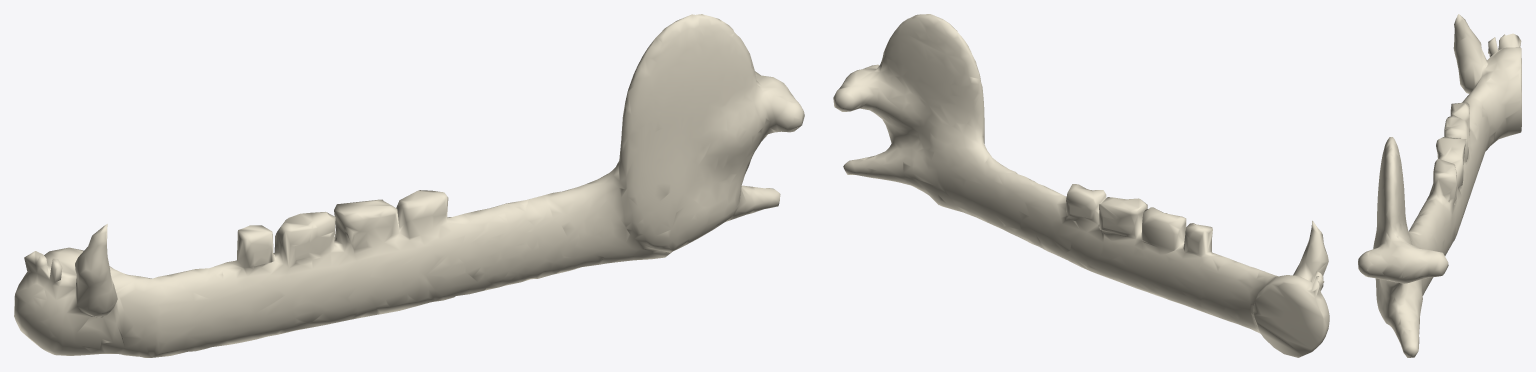
File: mandible_l.glb
The picture shows the model from 3 angles, left to right: view 1: azimuth 30°, elevation 25°; view 2: azimuth 150°, elevation 25°; view 3: azimuth 270°, elevation 25°; orthographic projection. The views are drawn at different scales.
Visible parts, largest first — view 1: geometry_0; view 2: geometry_0; view 3: geometry_0.
Part boxes in pixels (x1,y1,x2,y2): geometry_0: [14, 14, 804, 357]; geometry_0: [833, 14, 1329, 357]; geometry_0: [1358, 14, 1521, 357].
Size of the model in its own units: 0.8244 by 0.2942 by 0.2069.
